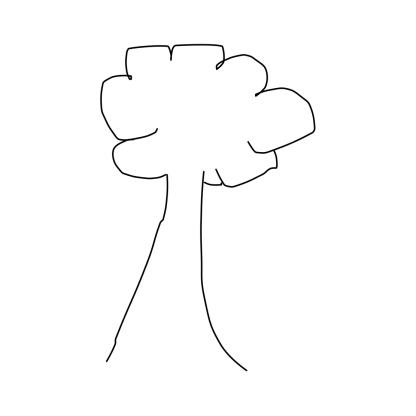crown_cloud: (100, 44, 315, 187)
trunk_reflex: (120, 197, 214, 328)
